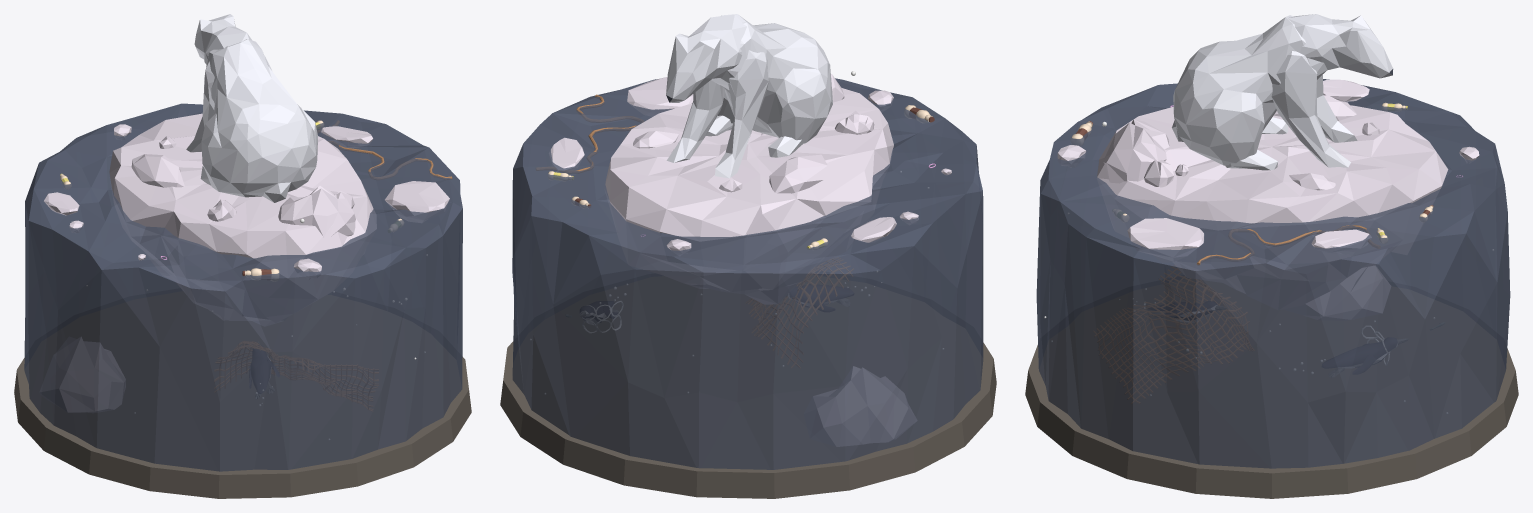
File: mcd-polar-bear.glb
3 renders of one model, left to right at view 1: azimuth 30°, elevation 25°; view 2: azimuth 150°, elevation 25°; view 3: azimuth 270°, elevation 25°, orthographic. The views are drawn at different scales.
Visible parts, largest first — view 1: Object_2, Object_7, Object_17, Object_5, Object_12, Object_14; view 2: Object_2, Object_7, Object_17, Object_5, Object_12, Object_14, Object_9; view 3: Object_2, Object_7, Object_17, Object_5, Object_12, Object_14, Object_9.
Boxes of the visible parts, x1,y1,x2,y2 form: Object_2: (24, 103, 462, 471); Object_7: (14, 291, 471, 498); Object_17: (40, 113, 449, 412); Object_5: (186, 14, 317, 202); Object_12: (215, 121, 452, 410); Object_14: (249, 349, 279, 393); Object_2: (512, 78, 983, 469); Object_7: (500, 275, 996, 498); Object_17: (549, 74, 951, 446); Object_5: (666, 14, 832, 178); Object_12: (536, 94, 853, 367); Object_14: (580, 284, 853, 321); Object_9: (548, 105, 932, 249); Object_2: (1036, 79, 1510, 468); Object_7: (1025, 279, 1518, 498); Object_17: (1057, 79, 1479, 319); Object_5: (1172, 14, 1392, 170); Object_12: (1094, 225, 1379, 403); Object_14: (1148, 301, 1397, 373); Object_9: (1071, 102, 1433, 243).
Size of the model in its own units: 26.57 by 22.7 by 26.57.
